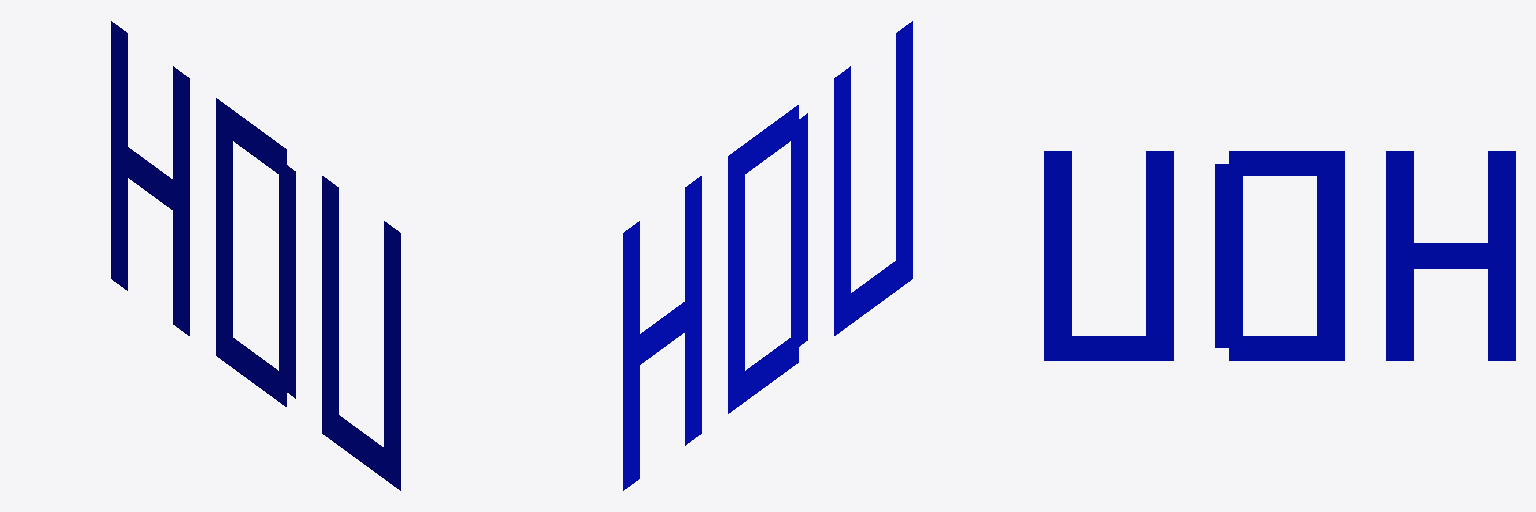
The robot description file, URDF, robot "hdu_sticker_024x010":
<?xml version="1.0"?>
<robot name="hdu_sticker_024x010">
  <link name="hdu_sticker_visual_link">
    <visual name="hdu_sticker_visual">
      <origin xyz="0 0 0" rpy="0 0 0"/>
      <geometry><mesh filename="hdu_sticker_024x010.obj" scale="1 1 1"/></geometry>
      <material name="hdu_blue_sticker"><color rgba="0.02 0.08 0.95 1.0"/></material>
    </visual>
    <inertial>
      <origin xyz="0 0 0" rpy="0 0 0"/>
      <mass value="0.0001"/>
      <inertia ixx="1e-9" ixy="0" ixz="0" iyy="1e-9" iyz="0" izz="1e-9"/>
    </inertial>
  </link>
</robot>

--- Facts derived from the render (not from the file) ---
The picture shows the robot from 3 angles, left to right: view 1: azimuth 30°, elevation 25°; view 2: azimuth 150°, elevation 25°; view 3: azimuth 270°, elevation 25°; orthographic projection.
Model hdu_sticker_024x010 with 1 links and 0 joints (none), rooted at hdu_sticker_visual_link, posed all joints at 0.
Visible links, largest first — view 1: hdu_sticker_visual_link; view 2: hdu_sticker_visual_link; view 3: hdu_sticker_visual_link.
Boxes of the visible links, box(x1,y1,x2,y2) form: hdu_sticker_visual_link: box(111, 21, 400, 490); hdu_sticker_visual_link: box(623, 21, 912, 490); hdu_sticker_visual_link: box(1044, 151, 1515, 360).
Size in the robot's own frame: 0 by 0.204 by 0.1 metres.
Meshes: 1 distinct files referenced, 1 mesh visuals loaded (1 OBJ).
